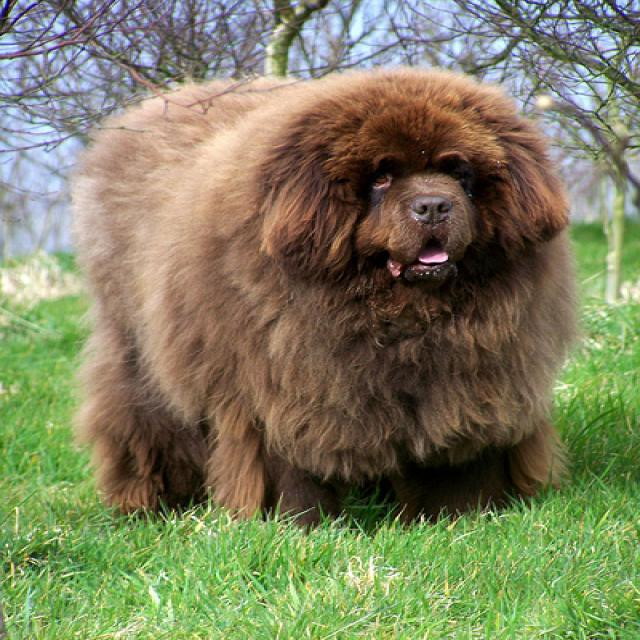dog-newfoundland: (58, 55, 586, 526)
